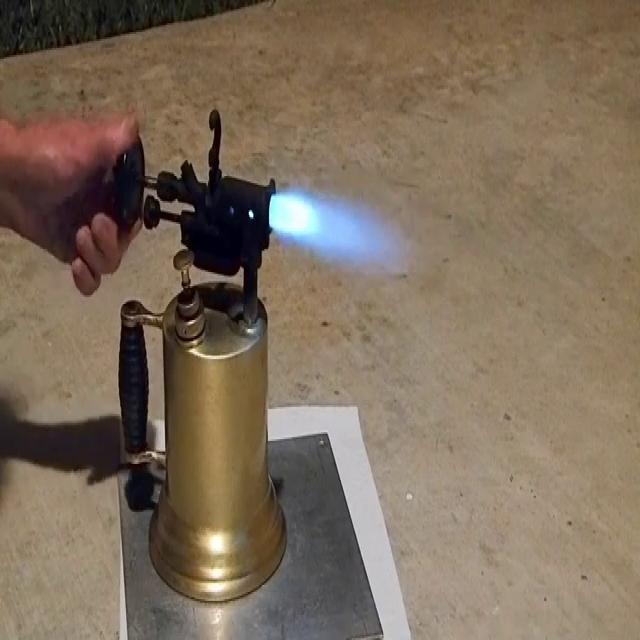fire: (271, 175, 425, 281)
